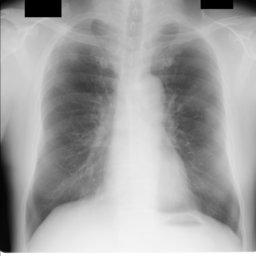leftlobe: (152, 24, 240, 232)
right lobe: (27, 20, 116, 236)
